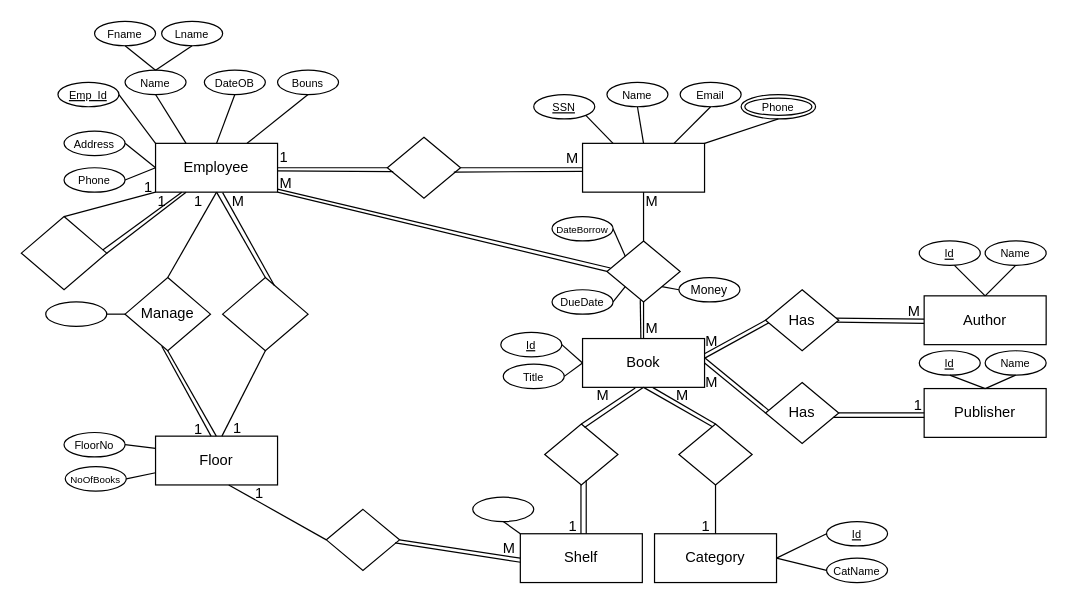
This 1068x604 diagram has some shape labels left out. The centre of each missing label's shape, as x and y in pixels:
Assigned: (x=581, y=454)
Borrow: (x=643, y=271)
Classify: (x=715, y=454)
Code: (x=503, y=509)
hiringDate: (x=76, y=313)
Located: (x=362, y=539)
Record: (x=423, y=167)
Supervise: (x=63, y=252)
User: (x=643, y=167)
Work: (x=264, y=313)
